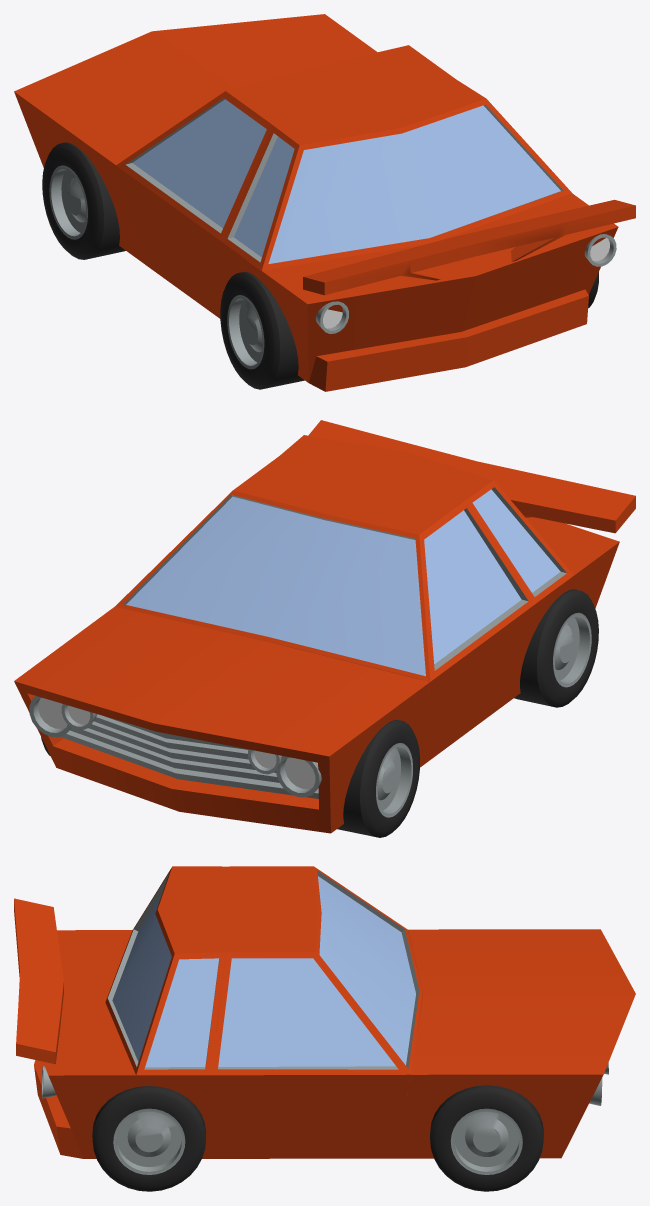
The model's file is Sportscoup.fbx.
The picture shows the model from 3 angles, top to bottom: view 1: azimuth 30°, elevation 25°; view 2: azimuth 150°, elevation 25°; view 3: azimuth 270°, elevation 25°; orthographic projection. The views are drawn at different scales.
Parts seen in each view (by area): view 1: SportCoup; view 2: SportCoup; view 3: SportCoup.
Part boxes in pixels (x1,y1,x2,y2): SportCoup: (14, 14, 635, 391); SportCoup: (14, 420, 635, 837); SportCoup: (14, 866, 635, 1191).
Bounding box in the file's own units: 438 × 273 × 744.
